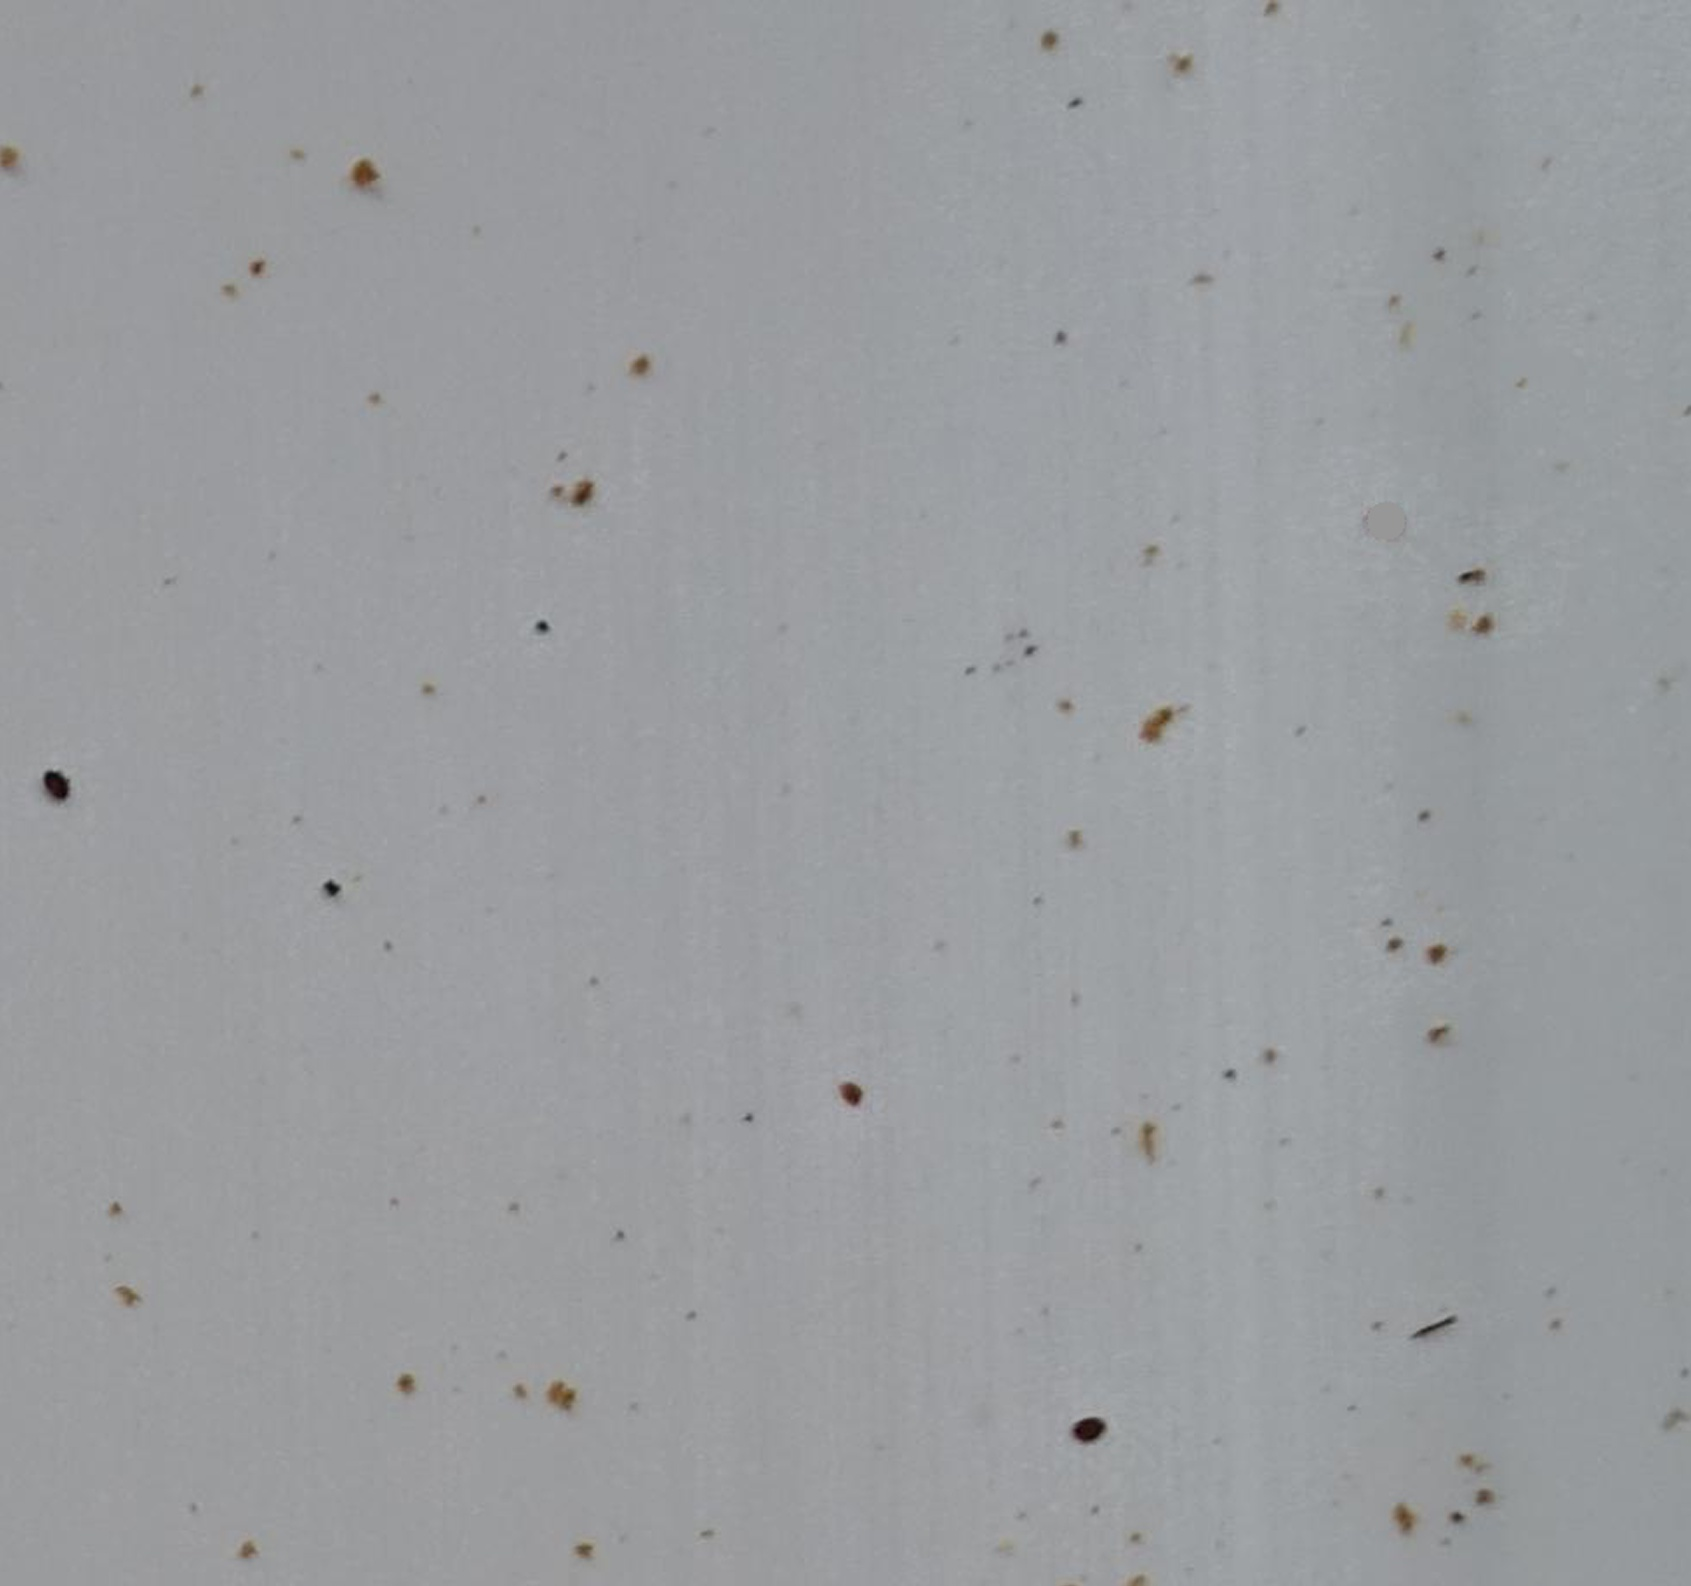Varroa: (40, 775, 66, 802), (1074, 1413, 1099, 1440)
